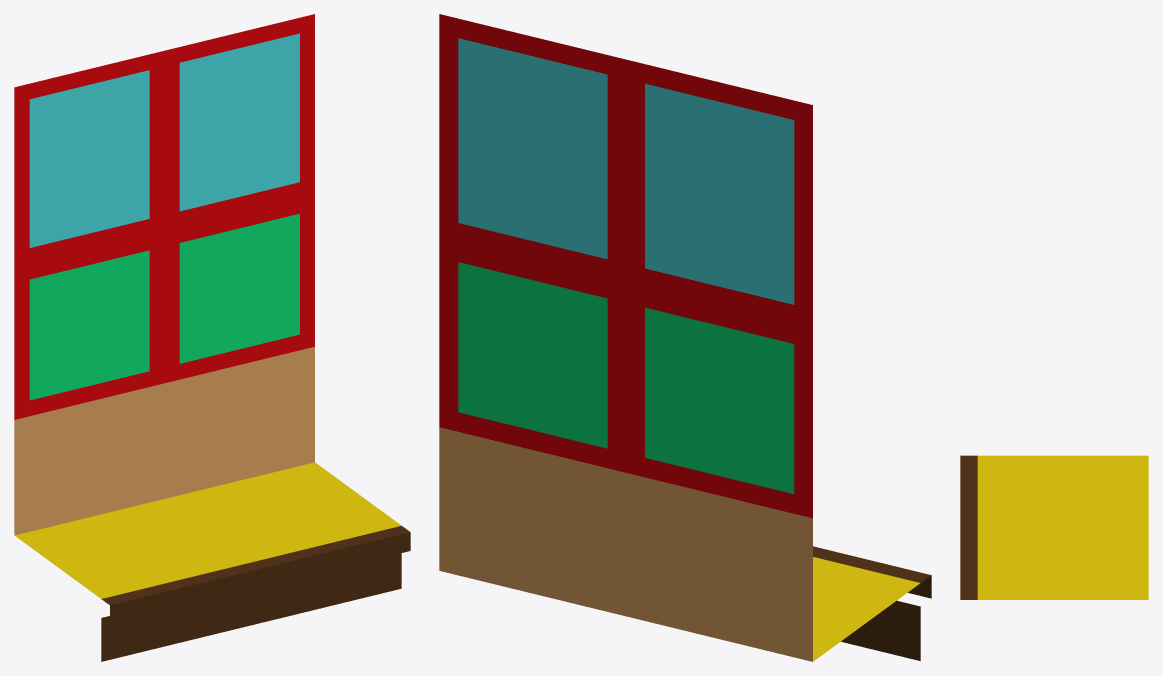
Rendered from Bottom Side.fbx.
3 renders of one model, left to right at view 1: azimuth 30°, elevation 25°; view 2: azimuth 150°, elevation 25°; view 3: azimuth 270°, elevation 25°, orthographic. The views are drawn at different scales.
Parts seen in each view (by area): view 1: Bottom Side.001; view 2: Bottom Side.001; view 3: Bottom Side.001.
Part boxes in pixels (x1=…): Bottom Side.001: x1=14, y1=14, x2=410, y2=661; Bottom Side.001: x1=439, y1=14, x2=931, y2=661; Bottom Side.001: x1=960, y1=455, x2=1148, y2=599.
Size of the model in its own units: 400 by 650 by 220.
